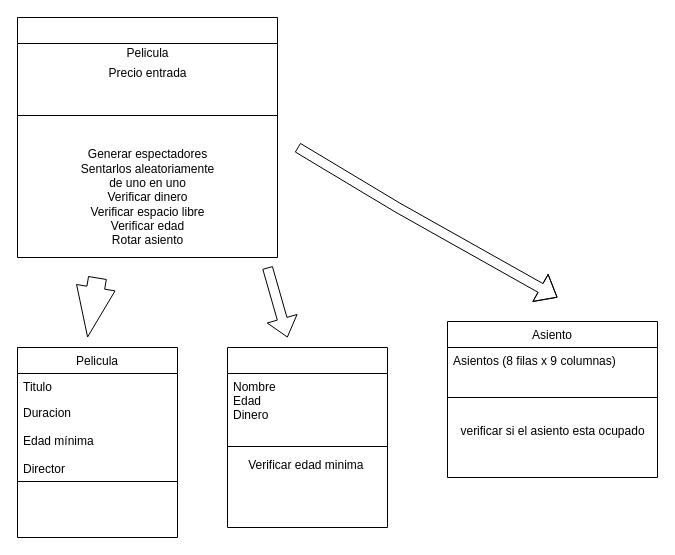
This 675x555 diagram has some shape labels left out. The box of each missing label's shape, as (x1, y1, x2, y2) in pixels:
Cine: (16, 16, 278, 258)
Espectador: (226, 346, 388, 528)
